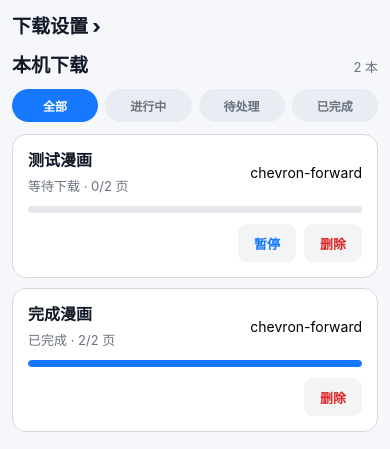
DownloadsScreen › filters completed downloads without losing the full count
Expected: the text "2 本" is shown, [353, 57, 378, 76]
Click the button "已完成": point(335, 106) [292, 89, 378, 122]
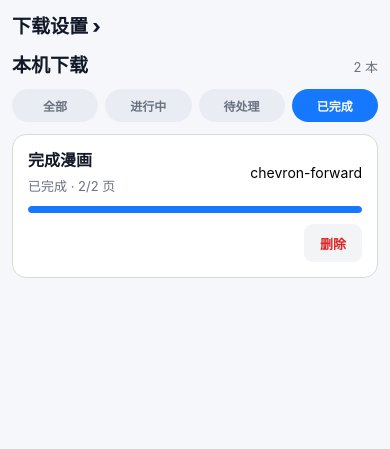
Expected: the text "完成漫画" is shown, [28, 150, 92, 170]
Now the button "测试漫画" is gone
